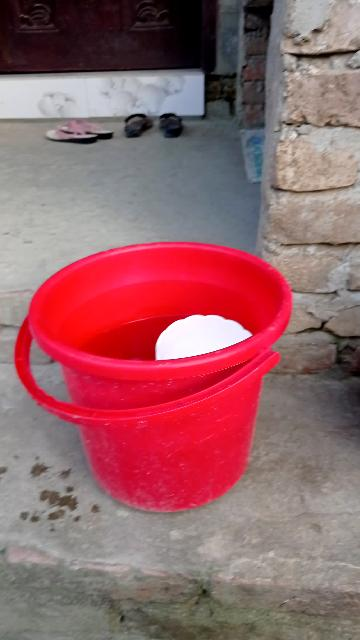hardplastic: (5, 237, 291, 518)
